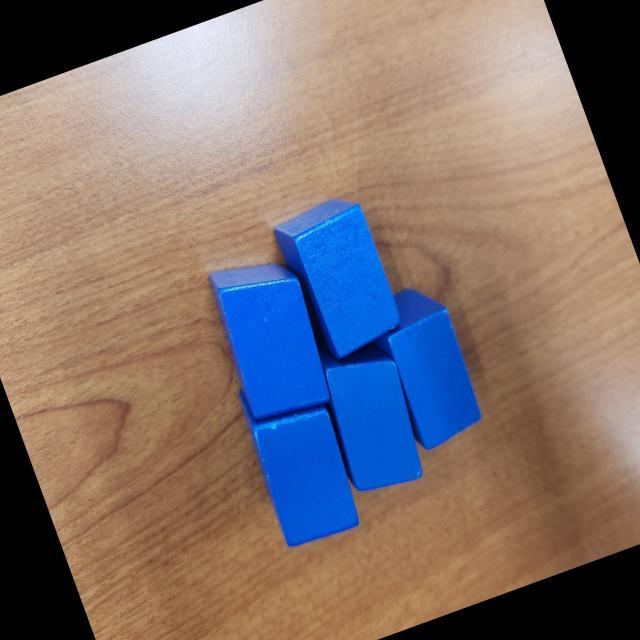blue: (232, 363, 370, 553), (200, 245, 342, 428), (268, 188, 409, 369), (361, 275, 492, 457), (304, 323, 436, 502)
